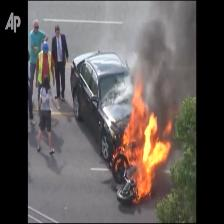fire: (122, 114, 161, 194)
smoke: (148, 6, 196, 107)
